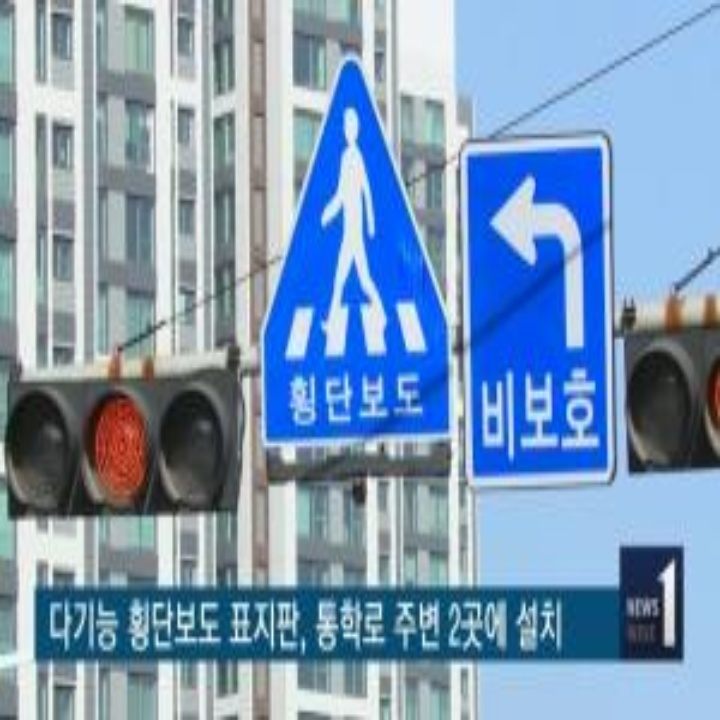cross: (299, 96, 406, 344)
left: (486, 169, 598, 362)
